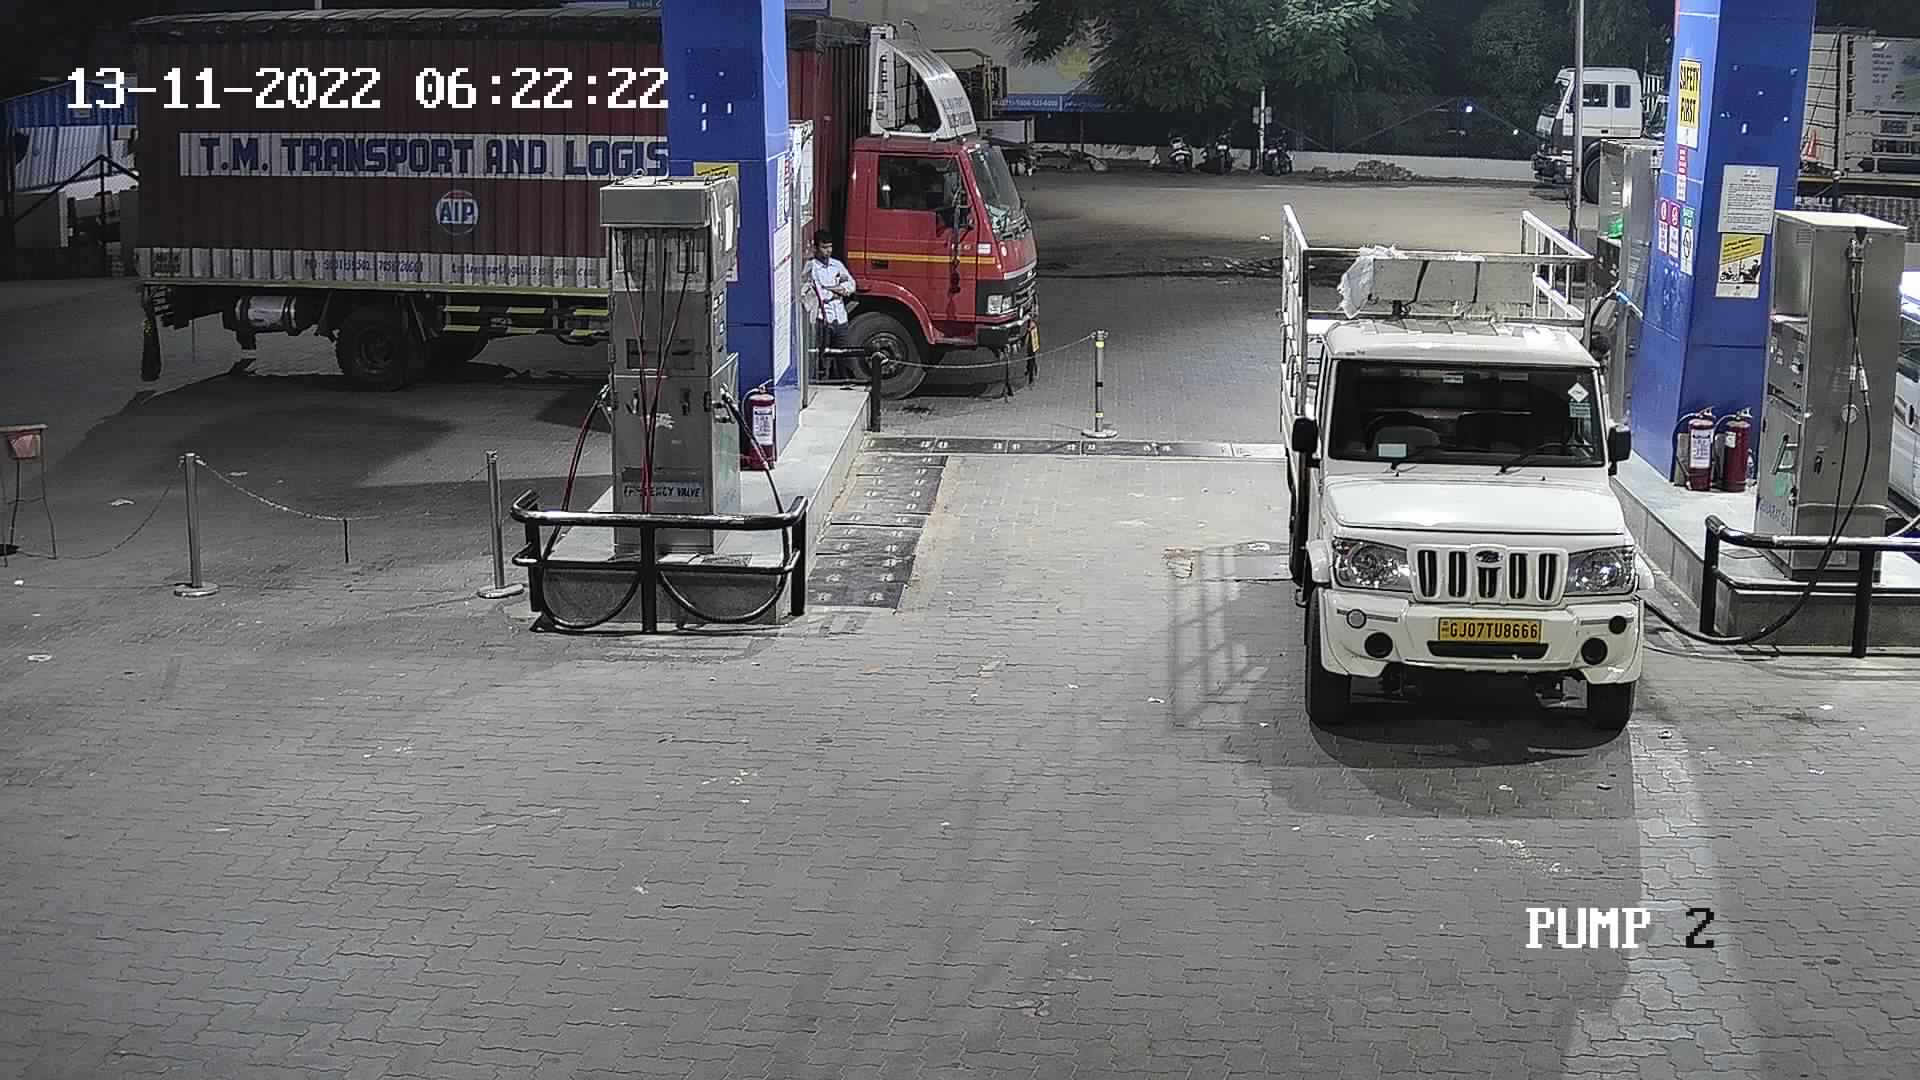Bike: (1251, 120, 1307, 185), (1150, 113, 1204, 179), (1204, 116, 1245, 177)
Car: (1258, 194, 1668, 752), (1866, 248, 1913, 539)
HMV: (102, 3, 670, 406), (881, 15, 1051, 187), (1768, 17, 1917, 204), (1520, 33, 1672, 204)
